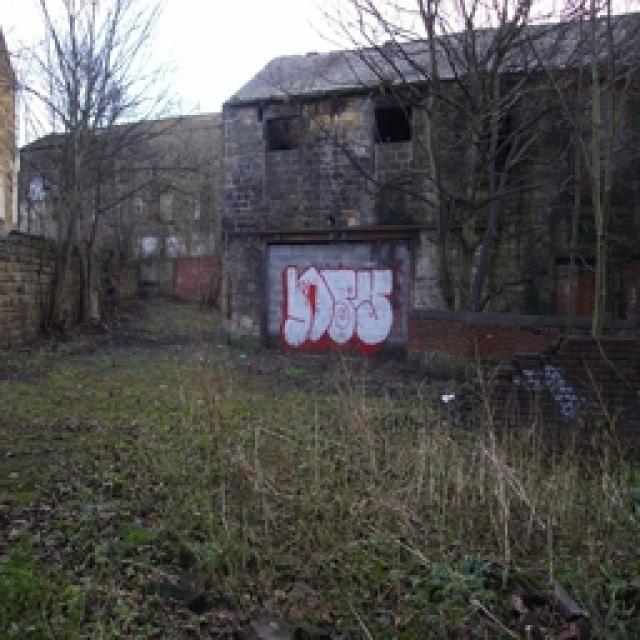Abbey: (237, 77, 637, 350)
